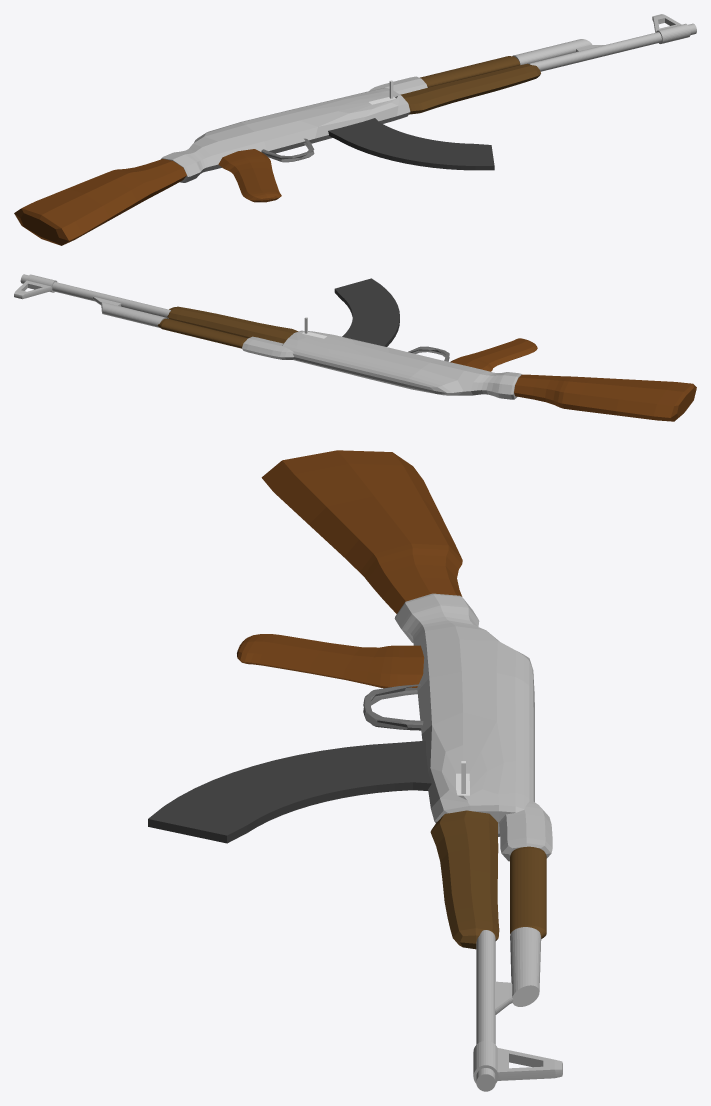
The picture shows the model from 3 angles, top to bottom: view 1: azimuth 30°, elevation 25°; view 2: azimuth 150°, elevation 25°; view 3: azimuth 270°, elevation 25°; orthographic projection. The views are drawn at different scales.
Parts seen in each view (by area): view 1: Cube.003, Cube, Cube.001, Cube.004, Cube.002, Cylinder, Cylinder.004, Cylinder.003, Cylinder.001, Cube.005, Cube.006; view 2: Cube.003, Cube, Cube.001, Cube.004, Cube.002, Cylinder, Cylinder.004, Cube.005, Cylinder.003, Cylinder.001, Cube.006; view 3: Cube.003, Cube, Cube.001, Cube.004, Cube.002, Cylinder.004, Cylinder, Cylinder.001, Cylinder.003, Cube.005, Cube.006.
Boxes of the visible parts, box(x1,y1,x2,y2) form: Cube.003: box(161, 87, 410, 182); Cube: box(14, 159, 186, 245); Cube.001: box(328, 118, 494, 170); Cube.004: box(400, 63, 540, 114); Cube.002: box(218, 149, 281, 202); Cylinder: box(528, 23, 696, 71); Cylinder.004: box(420, 56, 520, 87); Cylinder.003: box(512, 39, 592, 64); Cylinder.001: box(652, 14, 690, 43); Cube.005: box(369, 76, 427, 94); Cube.006: box(261, 138, 314, 162); Cube.003: box(282, 330, 521, 399); Cube: box(514, 374, 696, 421); Cube.001: box(334, 278, 399, 346); Cube.004: box(167, 306, 298, 343); Cube.002: box(450, 338, 537, 371); Cylinder: box(20, 274, 170, 318); Cylinder.004: box(157, 318, 247, 348); Cube.005: box(242, 336, 293, 359); Cylinder.003: box(101, 302, 166, 327); Cylinder.001: box(14, 274, 57, 299); Cube.006: box(408, 346, 449, 361); Cube.003: box(394, 593, 534, 836); Cube: box(261, 450, 462, 613); Cube.001: box(148, 740, 431, 843); Cube.004: box(430, 810, 499, 949); Cube.002: box(237, 634, 424, 688); Cylinder.004: box(510, 846, 546, 938); Cylinder: box(476, 930, 495, 1091); Cylinder.001: box(473, 1040, 562, 1083); Cylinder.003: box(510, 927, 541, 1006); Cube.005: box(499, 800, 552, 861); Cube.006: box(363, 684, 423, 730).
Size of the model in its own units: 469 by 24.87 by 134.
